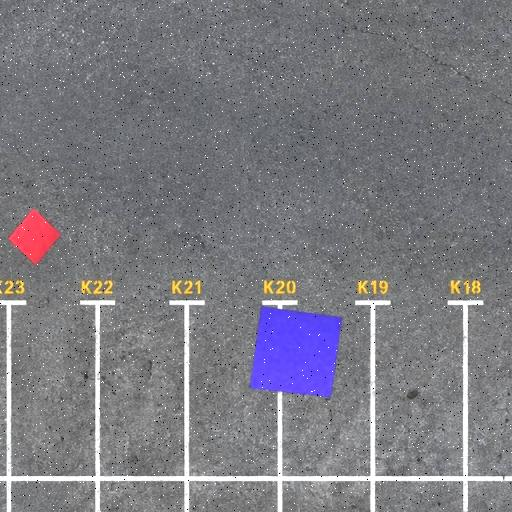BLUE_SQUARE: (249, 306, 342, 398)
RED_SQUARE: (7, 208, 62, 266)
